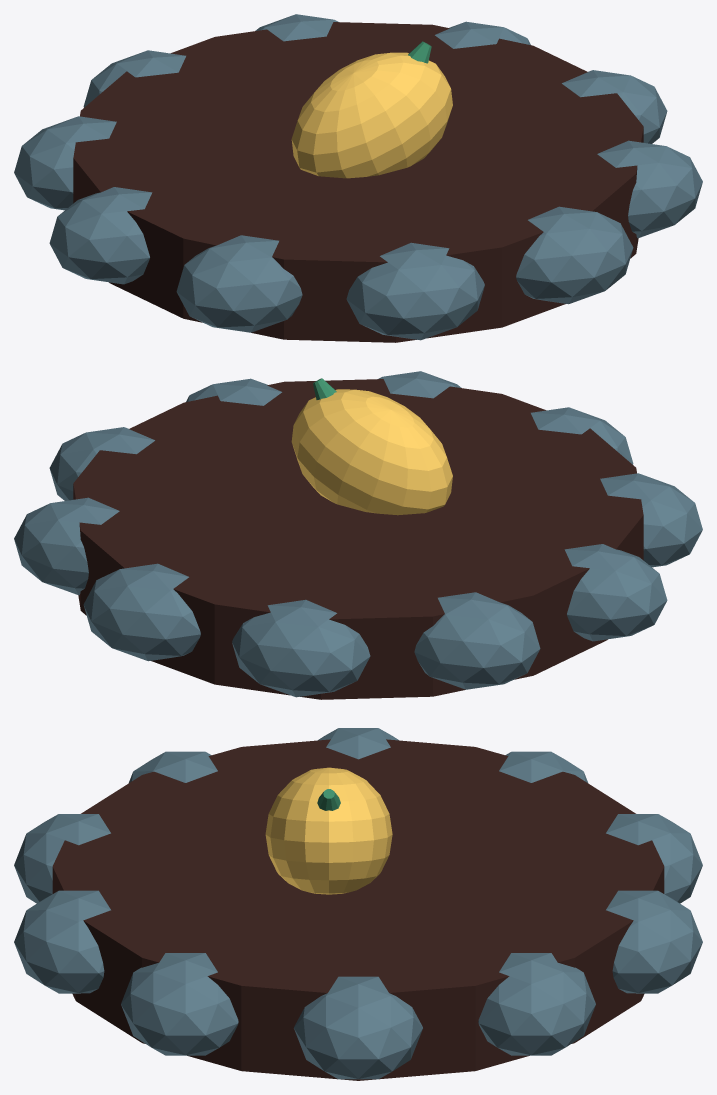
Rendered from seed_patch.glb.
3 views of the same model, one above another, from view 1: azimuth 30°, elevation 25°; view 2: azimuth 150°, elevation 25°; view 3: azimuth 270°, elevation 25° (orthographic). The views are drawn at different scales.
Visible parts, largest first — view 1: seed_patch; view 2: seed_patch; view 3: seed_patch.
Boxes of the visible parts, left/top/right/bottom form: seed_patch: left=14, top=14, right=702, bottom=342; seed_patch: left=14, top=371, right=702, bottom=699; seed_patch: left=14, top=728, right=702, bottom=1080.
Bounding box in the file's own units: 1.25 × 0.3546 × 1.17.
